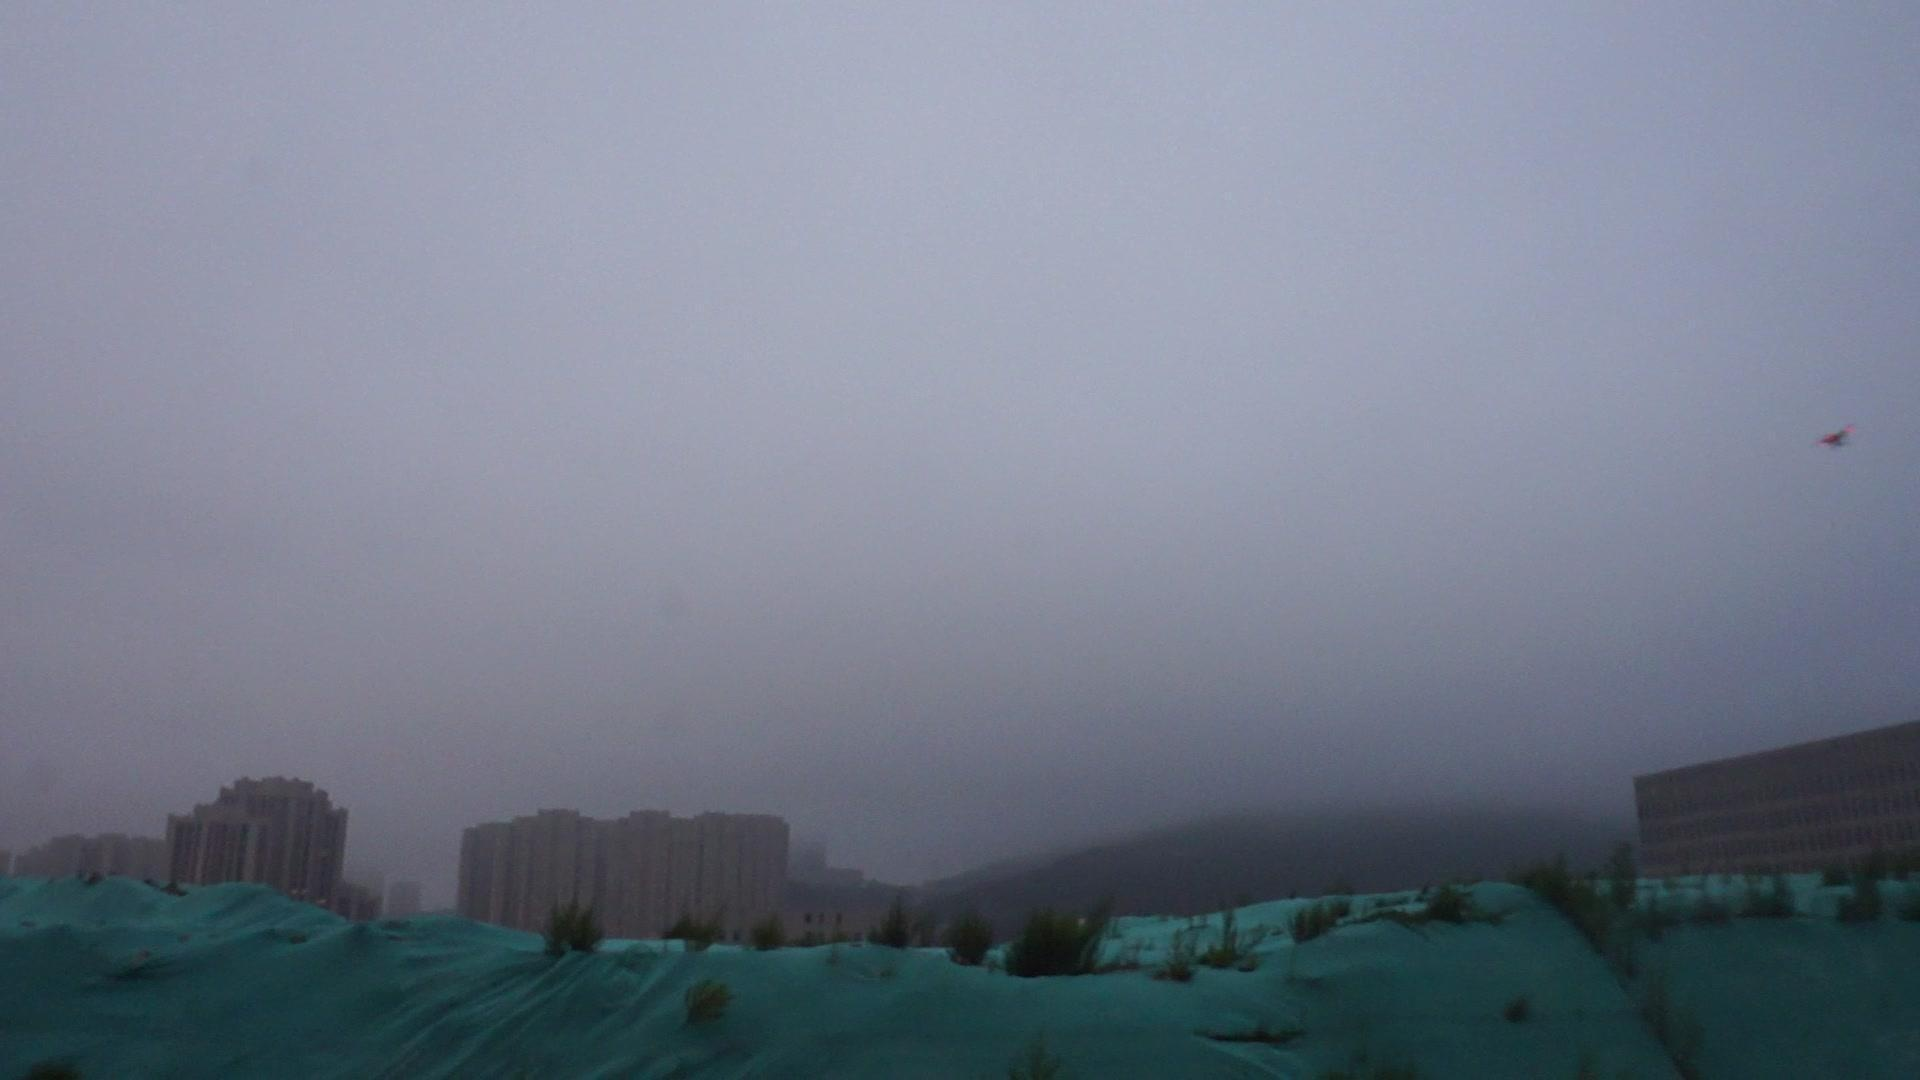UAV: (1815, 425, 1858, 448)
